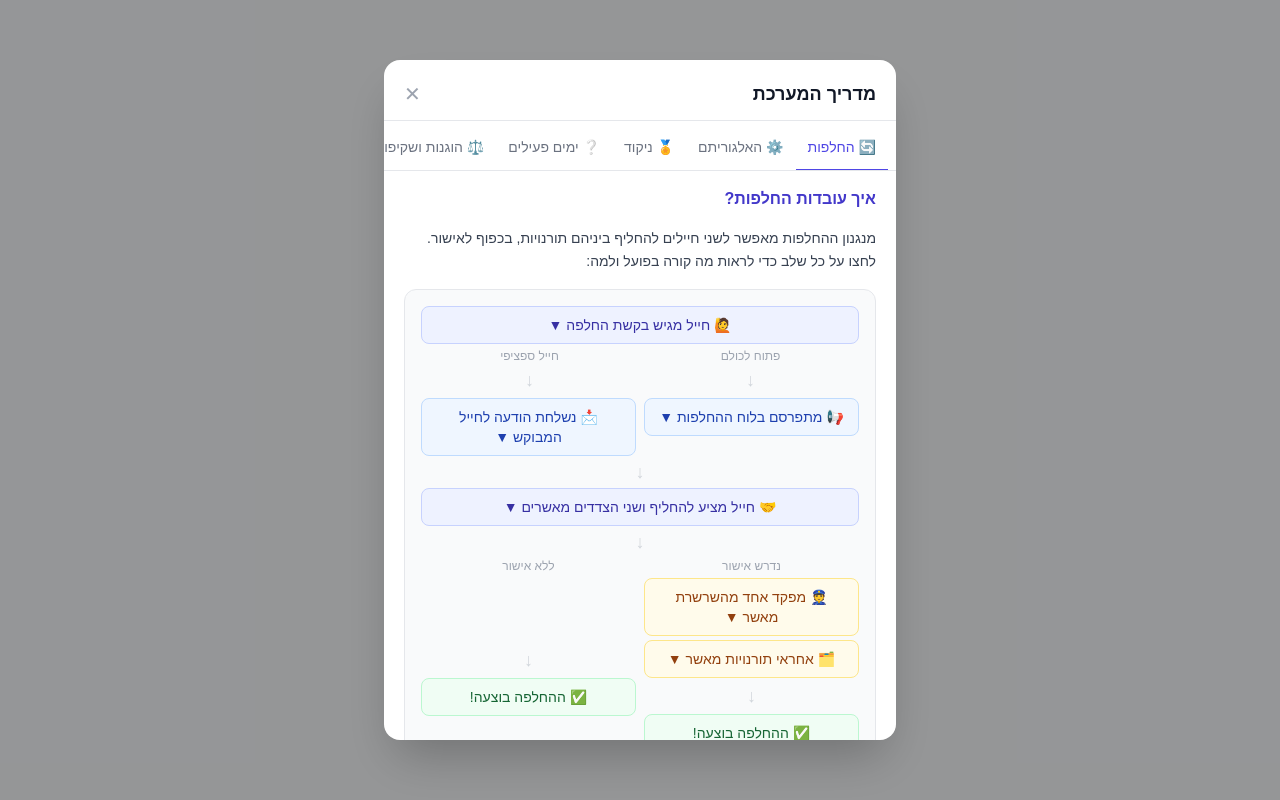
it: expands a swap step's detail on click and collapses on second click
This screenshot has width=1280, height=800.
Expected: the text "הבקשה יכולה להיות פתוחה" is not shown
Click the button "🙋 חייל מגיש בקשת החלפה ▼": [640, 324] box x1=421 y1=306 x2=859 y2=344
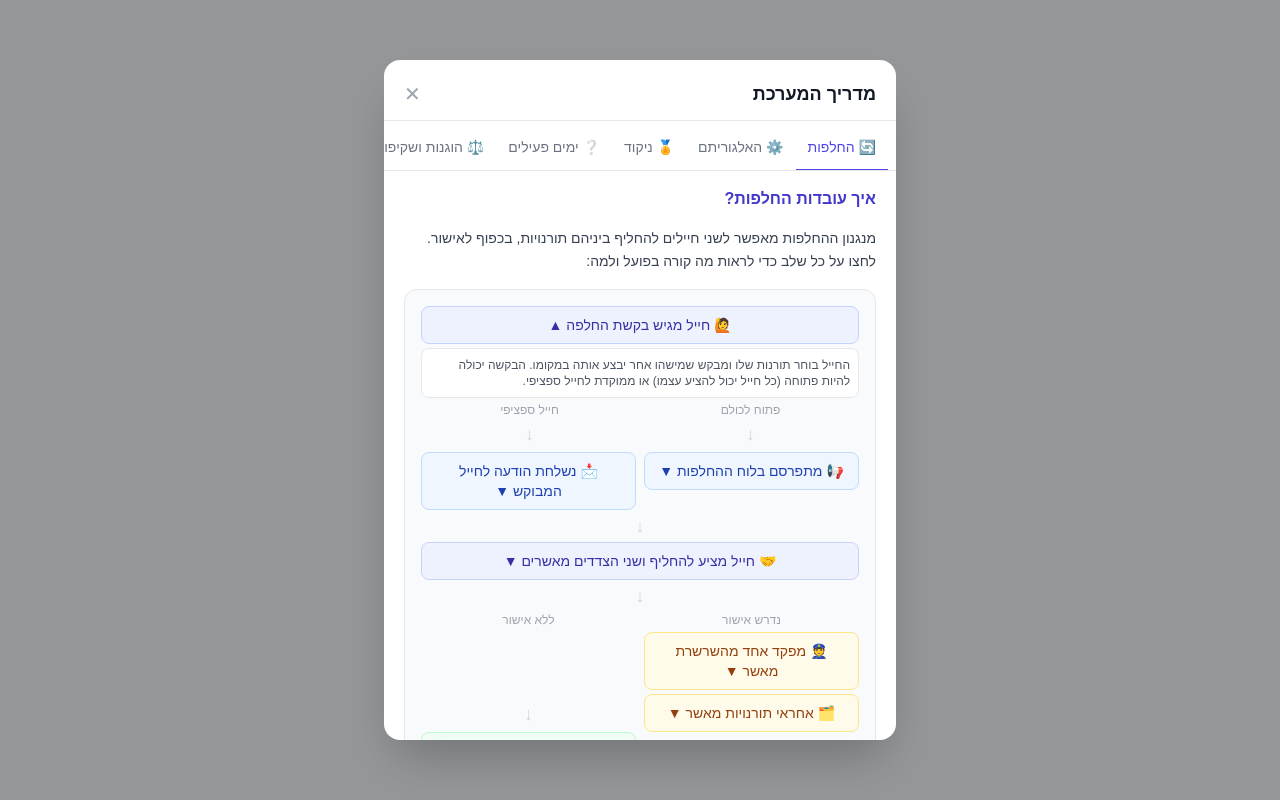
Expected: the text "הבקשה יכולה להיות פתוחה" is shown, x1=459 y1=358 x2=850 y2=388
Click the button "🙋 חייל מגיש בקשת החלפה ▲": [640, 324] box x1=421 y1=306 x2=859 y2=344
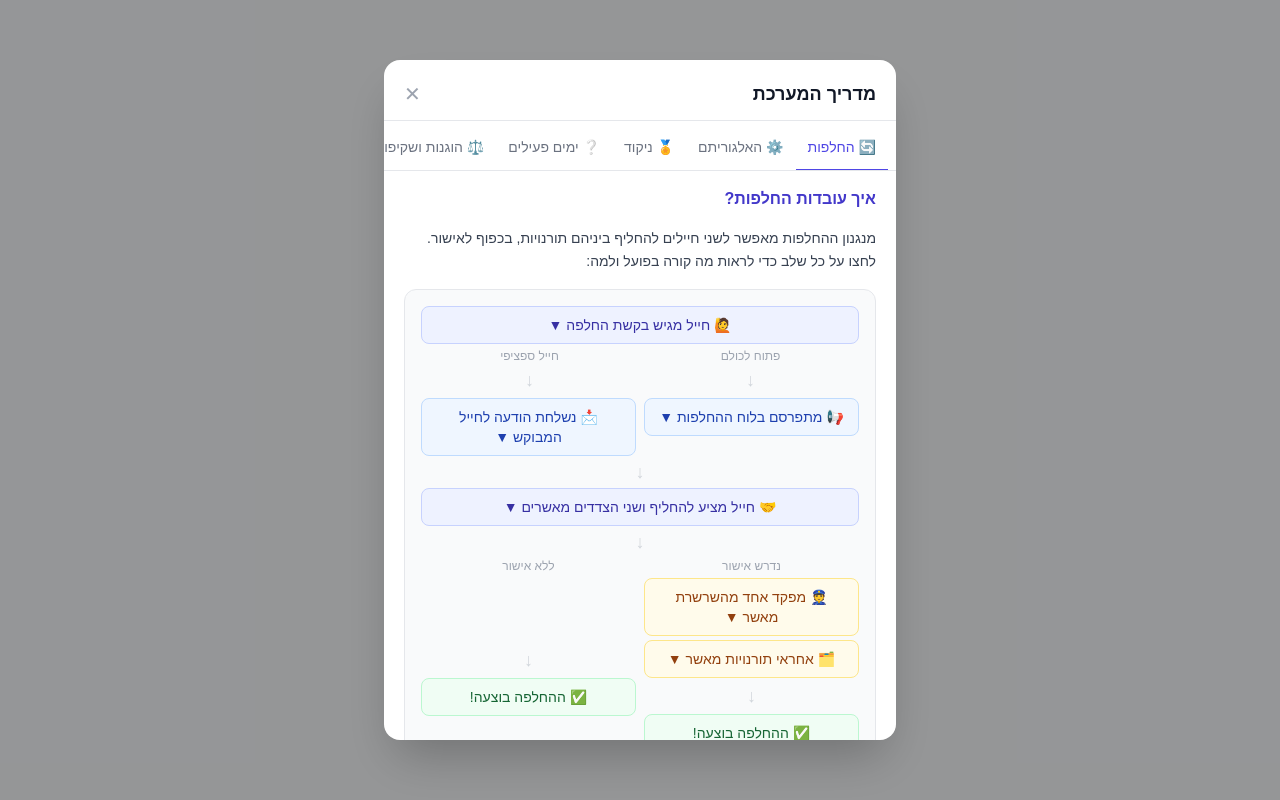
Expected: the text "הבקשה יכולה להיות פתוחה" is gone
